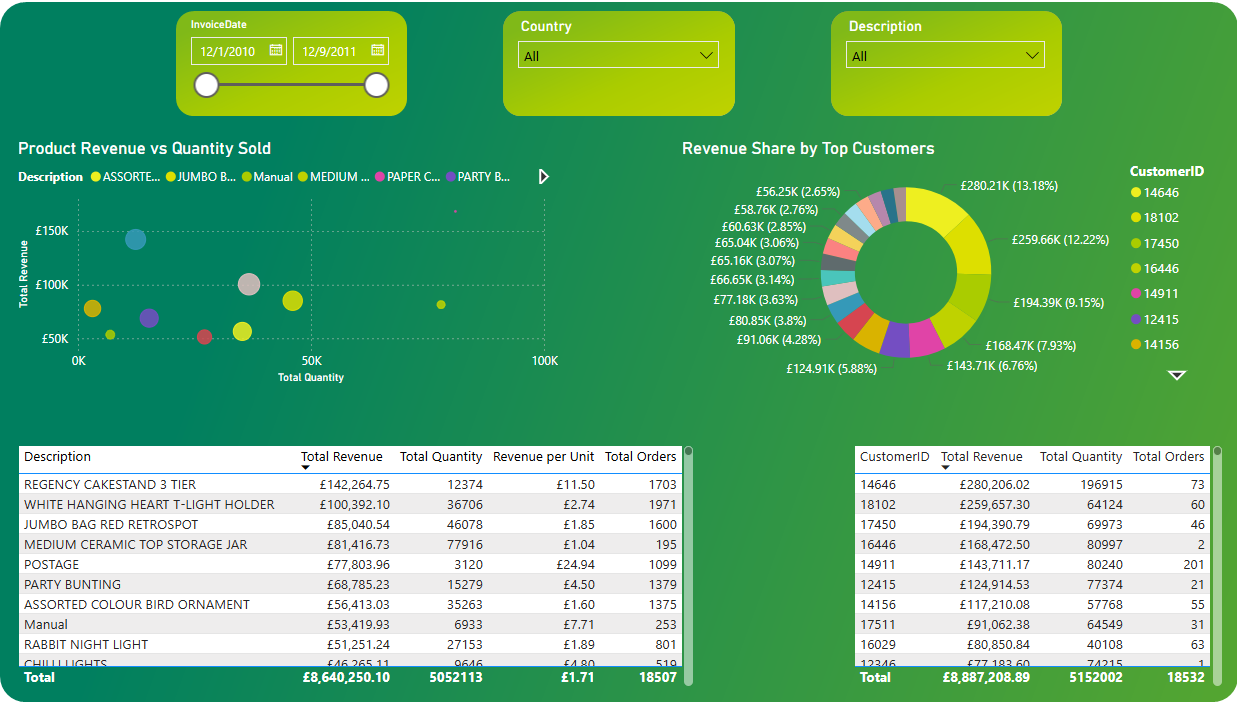

The dashboard page shown, as its layout file describes it:
{"tool":"powerbi","page":{"name":"Product & Customer Performance","canvas":[1280,720],"ordinal":1},"visuals":[{"type":"scatterChart","title":"Product Revenue vs Quantity Sold","fields":{"X":["vw_completed_sales.Total Quantity"],"Y":["vw_completed_sales.Total Revenue"],"Size":["vw_completed_sales.Total Orders"],"Series":["vw_completed_sales.Description"]},"box":[34,146,550,250],"z":0},{"type":"tableEx","fields":{"Values":["vw_completed_sales.Description","vw_completed_sales.Total Revenue","vw_completed_sales.Total Quantity","vw_completed_sales.Revenue per Unit","vw_completed_sales.Total Orders"]},"box":[34.1,449.4,685.1,249.6],"z":1000},{"type":"donutChart","title":"Revenue Share by Top Customers","fields":{"Y":["vw_completed_sales.Total Revenue"],"Category":["vw_completed_sales.CustomerID"]},"box":[698,146,550,250],"z":2000},{"type":"tableEx","fields":{"Values":["vw_completed_sales.CustomerID","vw_completed_sales.Total Revenue","vw_completed_sales.Total Quantity","vw_completed_sales.Total Orders"]},"box":[870.2,449.4,377.6,249.6],"z":3000},{"type":"slicer","fields":{"Values":["vw_completed_sales.InvoiceDate"]},"box":[198.9,21.2,220.1,98.5],"z":4000},{"type":"slicer","fields":{"Values":["vw_completed_sales.Country"]},"box":[529.5,21.2,220.1,98.5],"z":5000},{"type":"slicer","fields":{"Values":["vw_completed_sales.Description"]},"box":[856.6,21.3,219.9,98.4],"z":6000}]}

Visuals, with their boxes in screenshot pixels (x1, y1, x2, y2), scaled from the page's 1280x720 canvas onto the 1237x702 screenshot:
"Product Revenue vs Quantity Sold" scatterChart: <region>33, 142, 564, 386</region>
tableEx - vw_completed_sales.Description x vw_completed_sales.Total Revenue: <region>33, 438, 695, 682</region>
"Revenue Share by Top Customers" donutChart: <region>675, 142, 1206, 386</region>
tableEx - vw_completed_sales.CustomerID x vw_completed_sales.Total Revenue: <region>841, 438, 1206, 682</region>
slicer - vw_completed_sales.InvoiceDate: <region>192, 21, 405, 117</region>
slicer - vw_completed_sales.Country: <region>512, 21, 724, 117</region>
slicer - vw_completed_sales.Description: <region>828, 21, 1040, 117</region>
